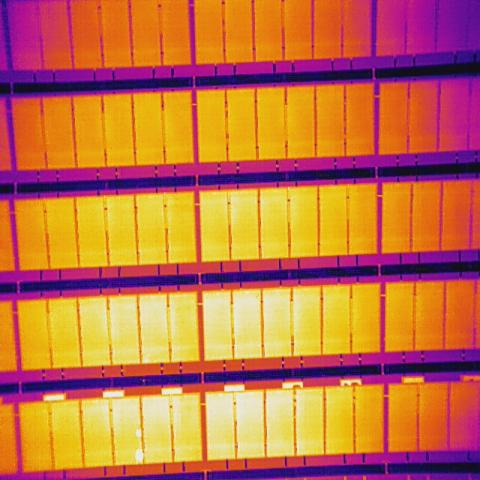fault: (134, 448, 145, 464), (133, 425, 142, 439)
